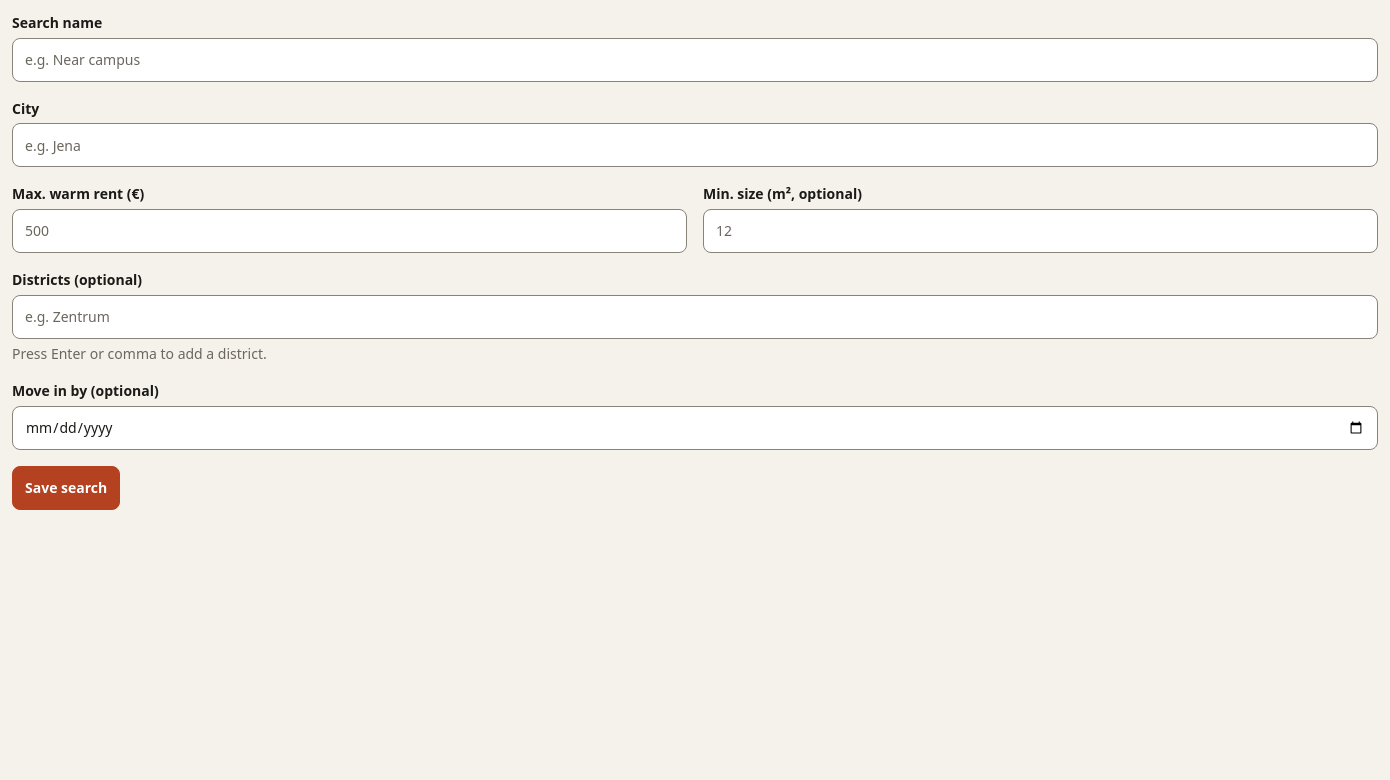
Scenario: SearchForm › keeps the submitted values and shows server 422 details
In the field labelled "Search name": (695, 60) [12,38,1378,82], type " Campus "
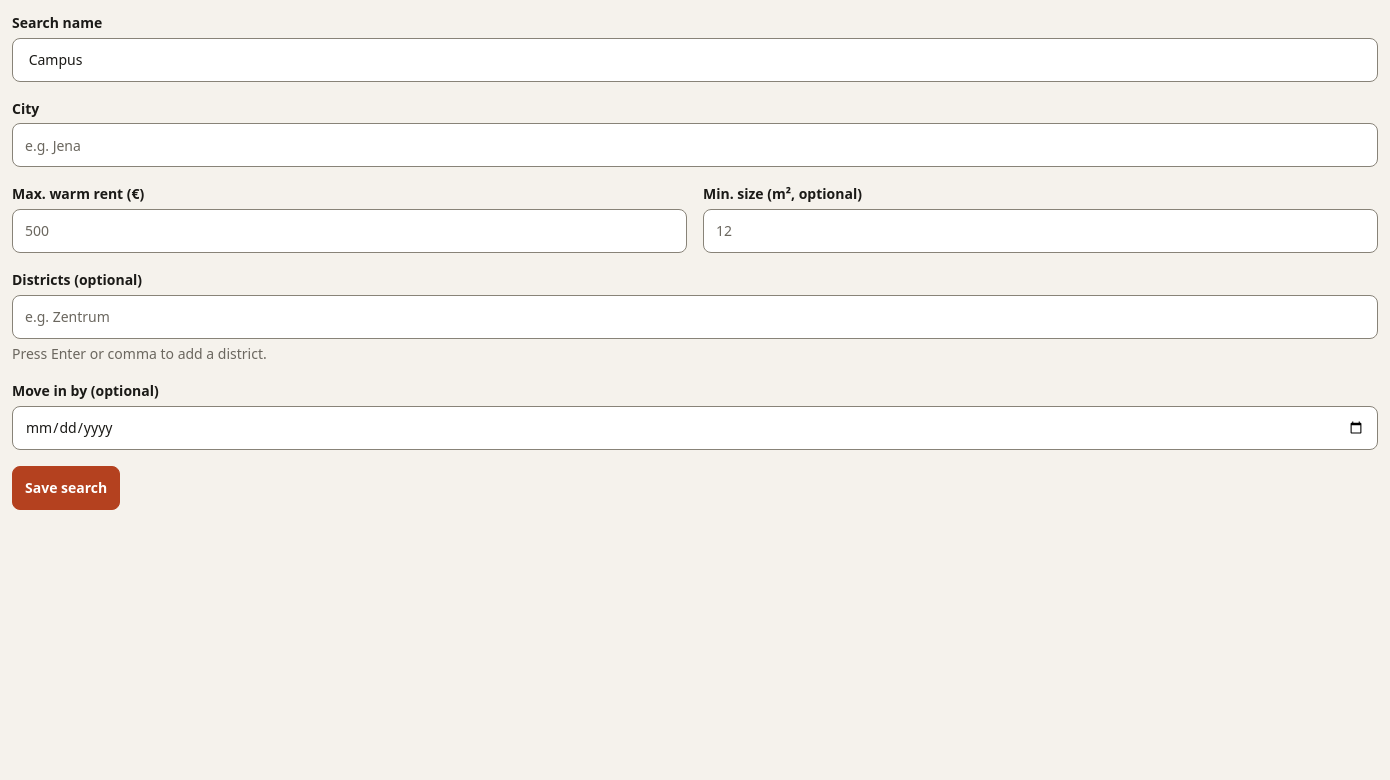
In the field labelled "City": (695, 145) [12,123,1378,167], type "Jena"
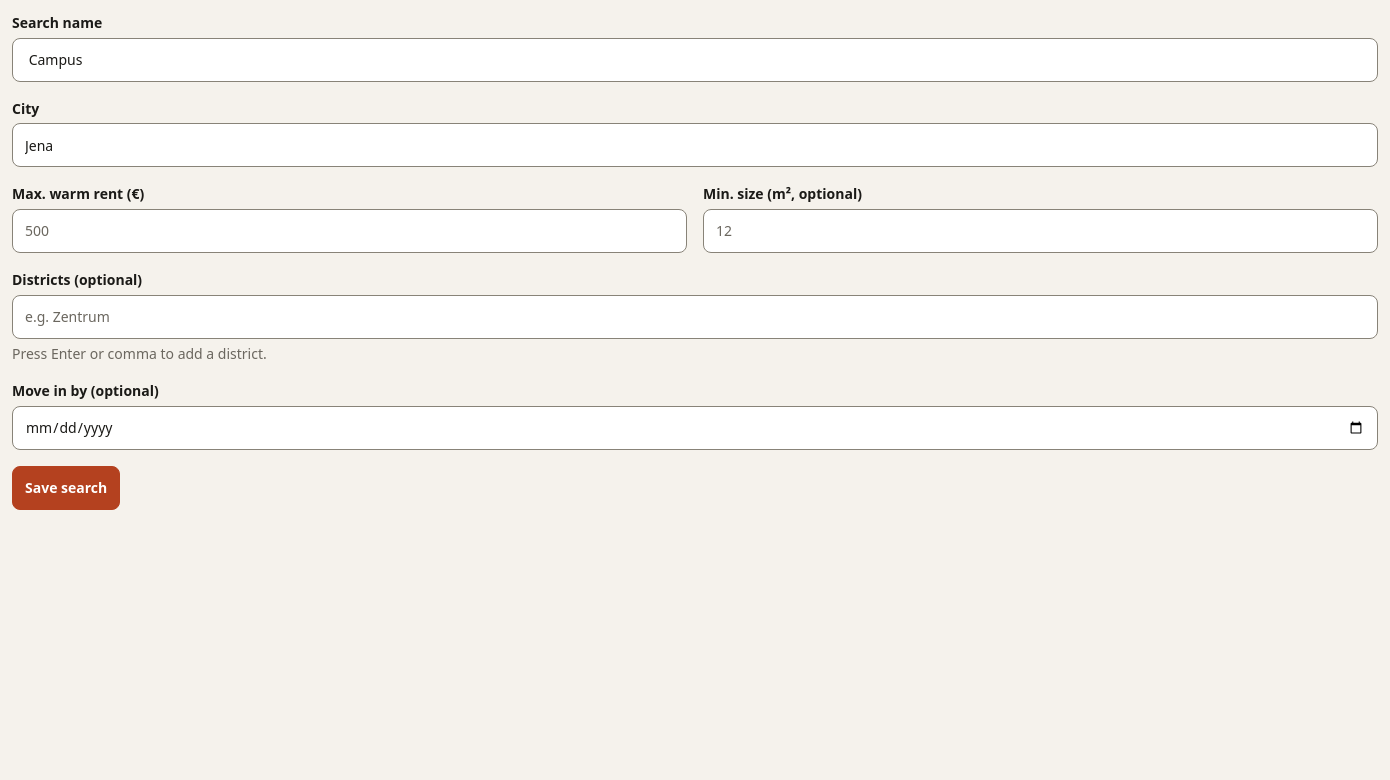
In the number field labelled "Max. warm rent (€)": (350, 231) [12,209,687,253], type "450"
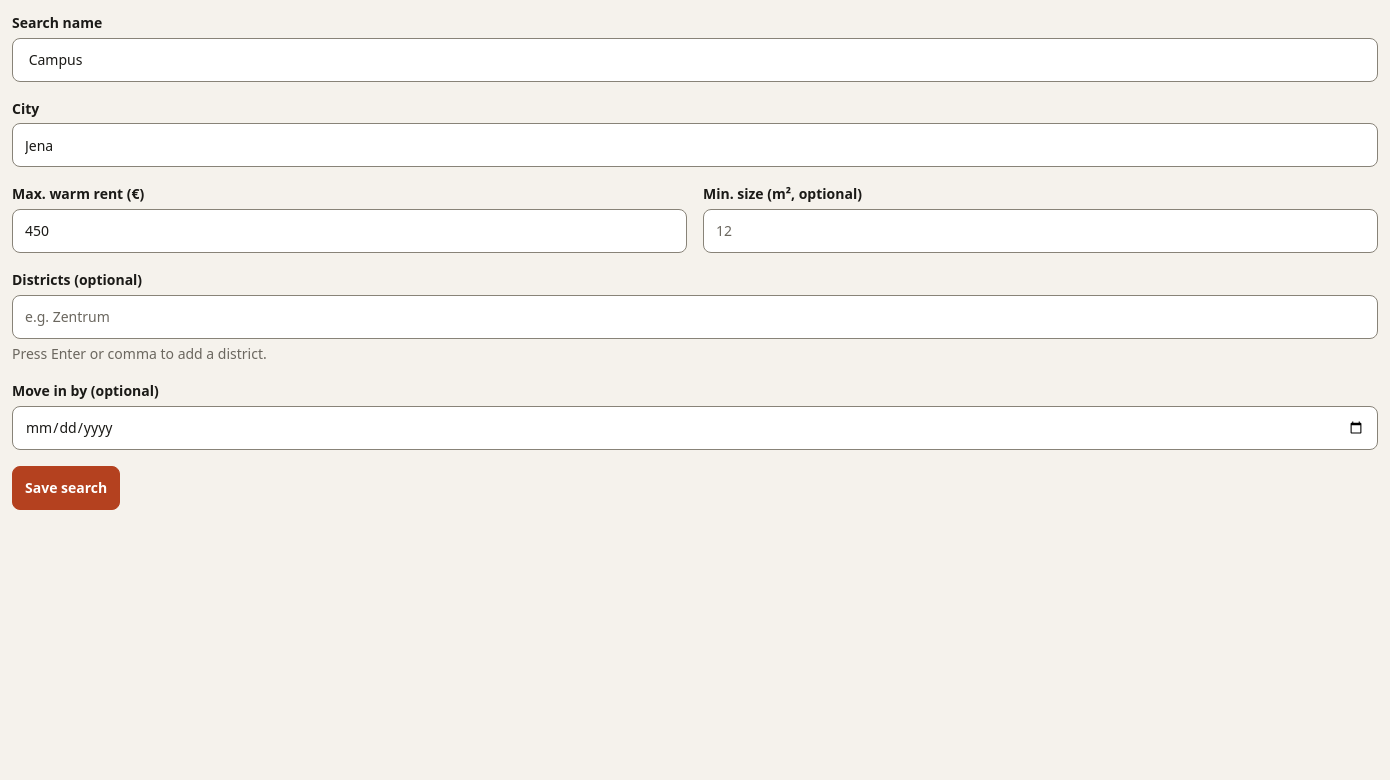
Click the button "Save search": click(66, 488) [12,466,120,510]
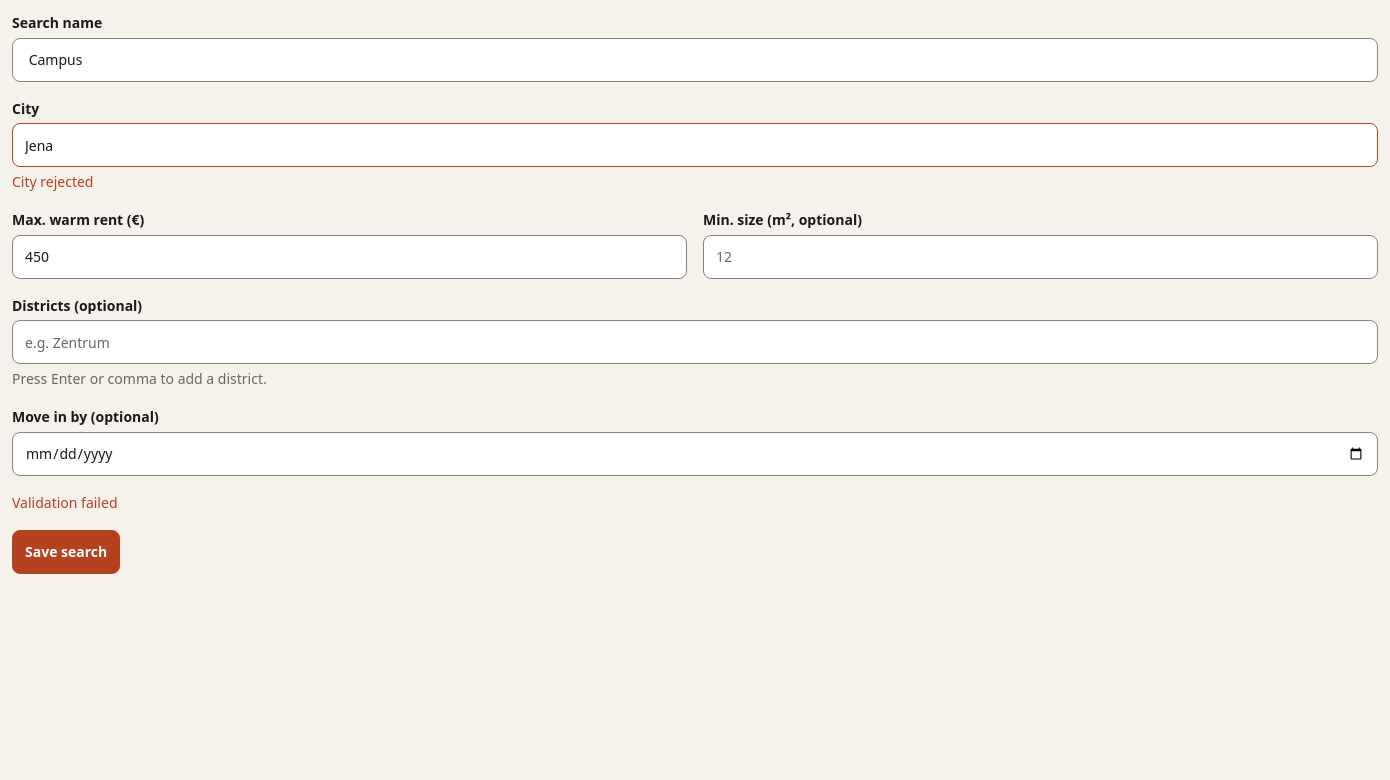
Now the text "City rejected" is shown, box [12,172,94,191]
Now the message reads "Validation failed", box [12,493,118,512]
